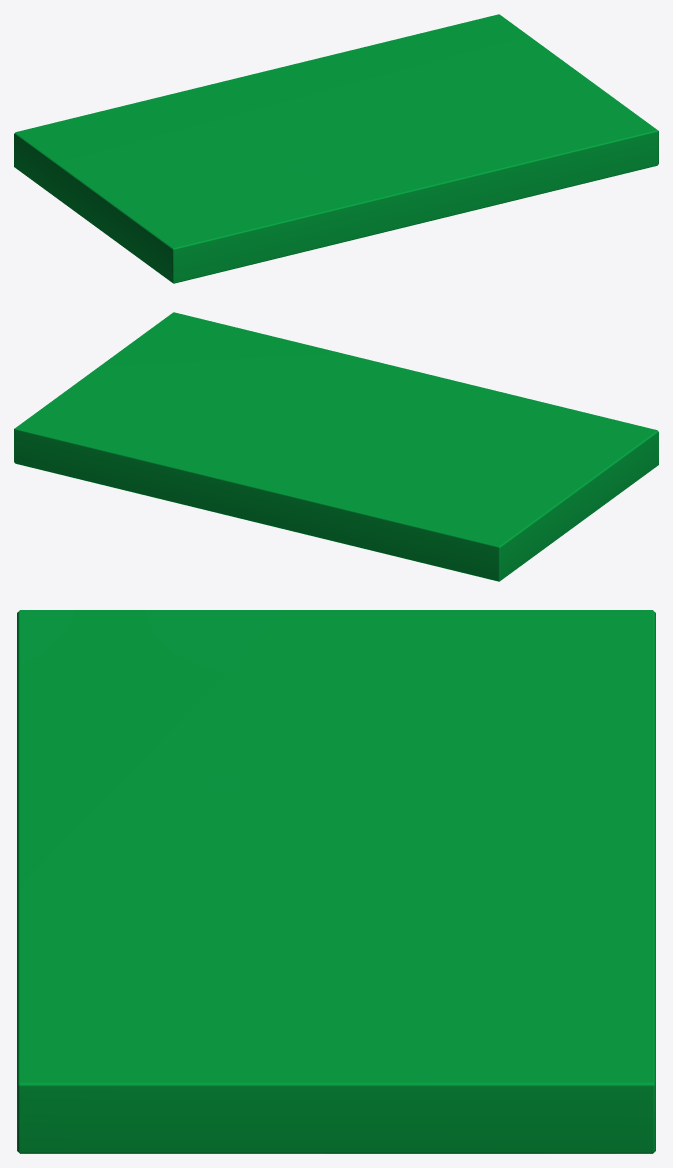
The model's file is Town_8_Base_1.glb.
3 views of the same model, one above another, from view 1: azimuth 30°, elevation 25°; view 2: azimuth 150°, elevation 25°; view 3: azimuth 270°, elevation 25° (orthographic). The views are drawn at different scales.
Visible parts, largest first — view 1: Town_8_Base_1; view 2: Town_8_Base_1; view 3: Town_8_Base_1.
Part boxes in pixels (left/top/right/bottom): Town_8_Base_1: left=14, top=14, right=658, bottom=283; Town_8_Base_1: left=14, top=312, right=658, bottom=581; Town_8_Base_1: left=17, top=610, right=655, bottom=1153.
Size of the model in its own units: 16.3 by 1.15 by 9.27.
1 material, 1 textured.
